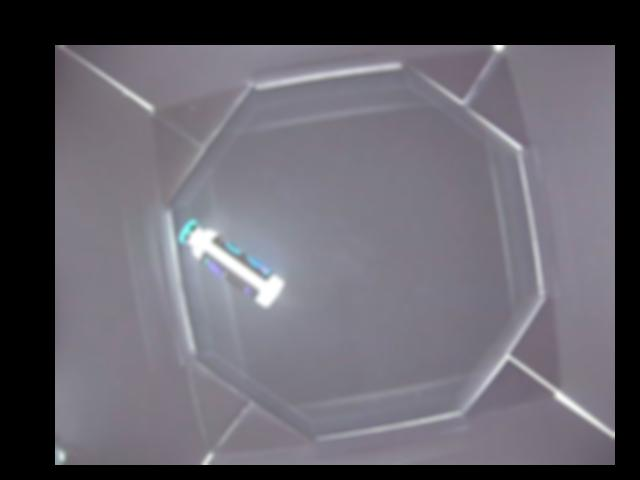Medicine: (178, 219, 284, 309)
